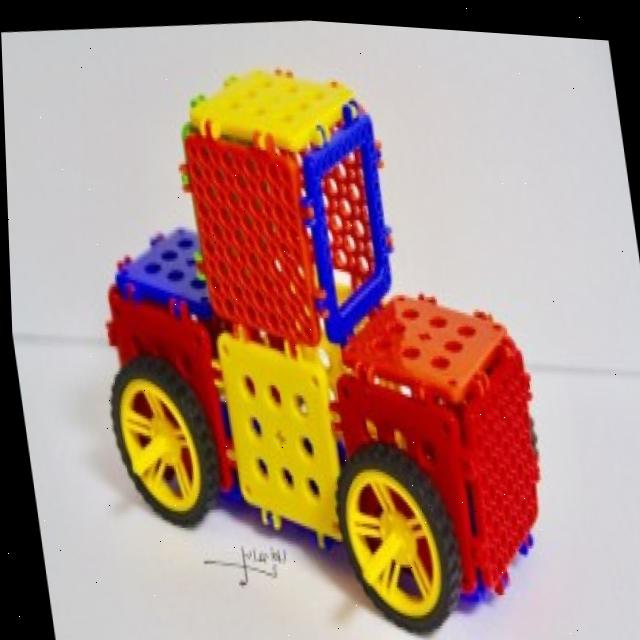Dry: (37, 17, 577, 640)
